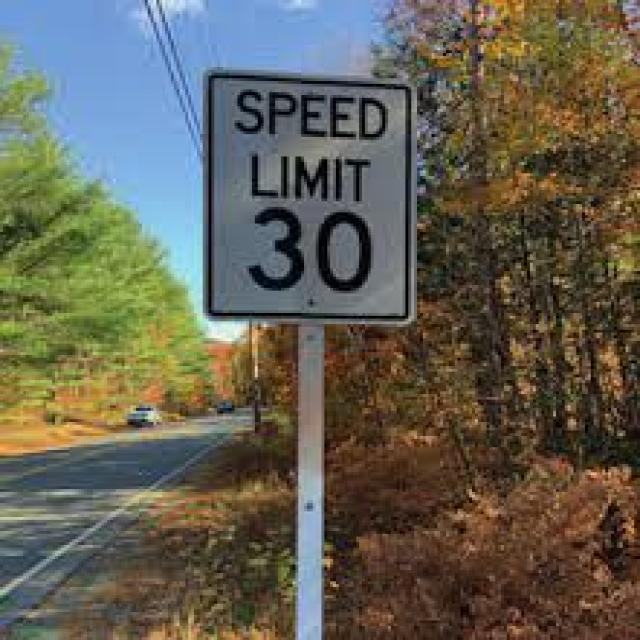speedLimit30: (206, 72, 414, 314)
